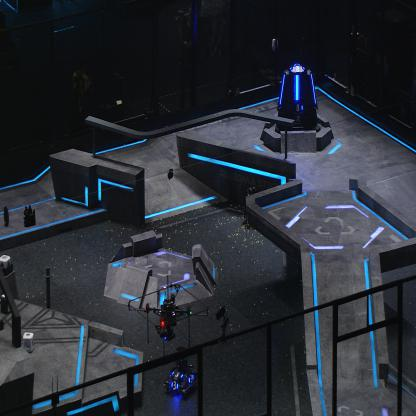car: (164, 344, 198, 394)
